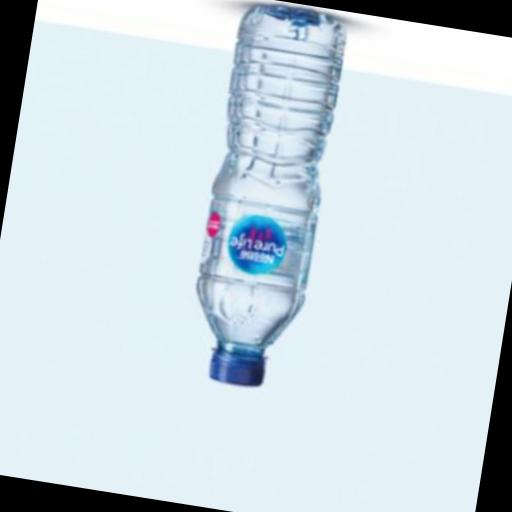Coca: (165, 0, 365, 407)
